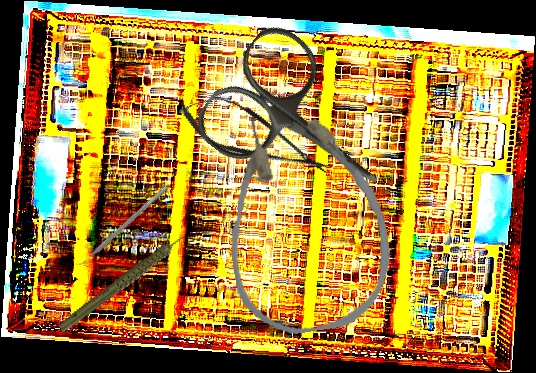Cannula: (210, 99, 401, 342)
Handpiece: (45, 232, 207, 334)
Iris Scissors: (187, 16, 418, 239)
Micro Scissor: (170, 81, 338, 192)
Spatula Surgical: (73, 181, 169, 271)
